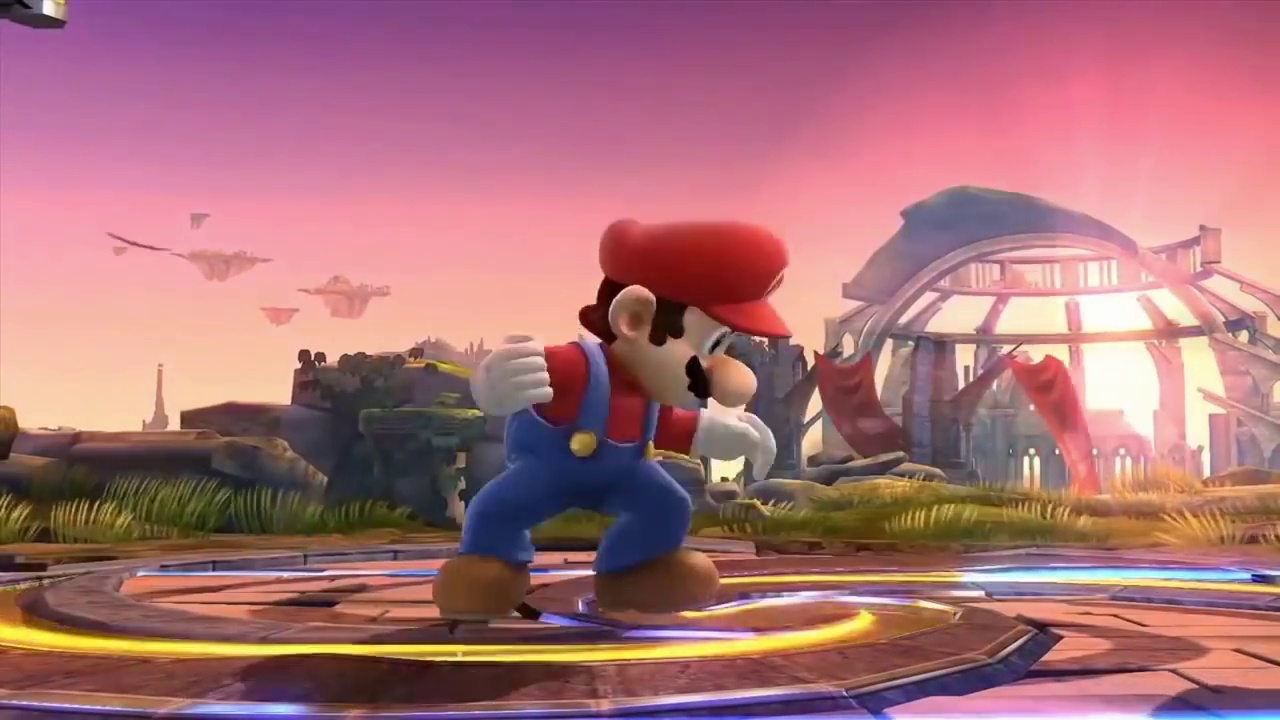Mario: (436, 217, 793, 613)
